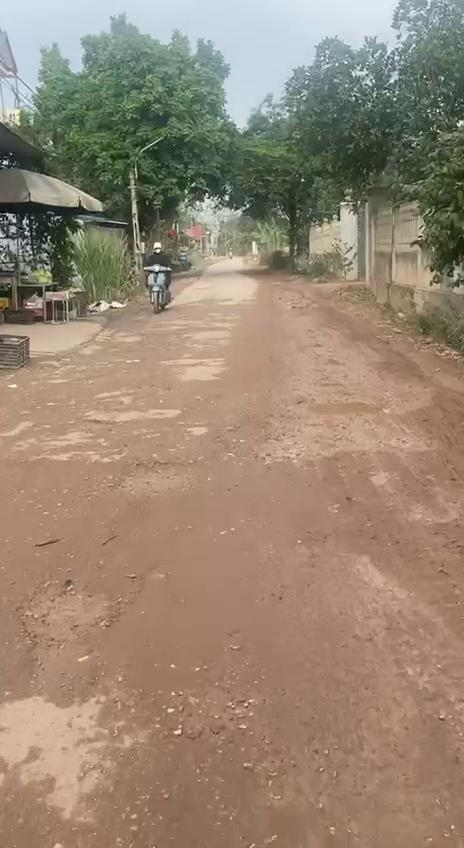pothole: (20, 576, 122, 649), (110, 457, 206, 500), (302, 391, 402, 421)
